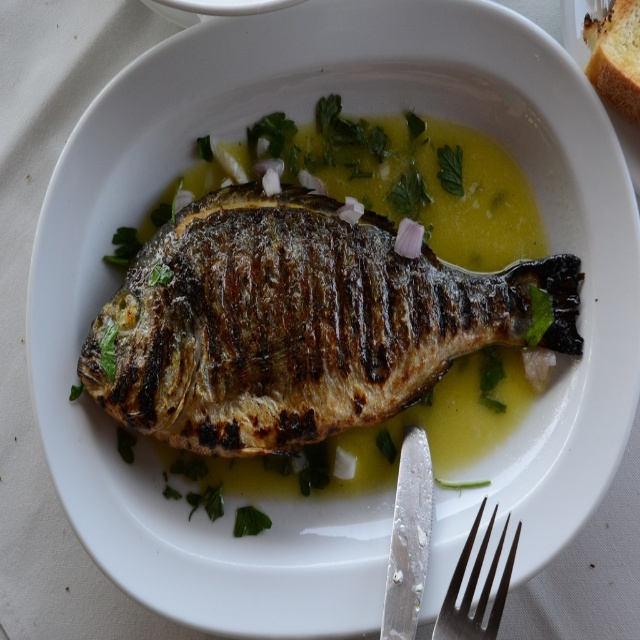Fish: (77, 181, 585, 459)
